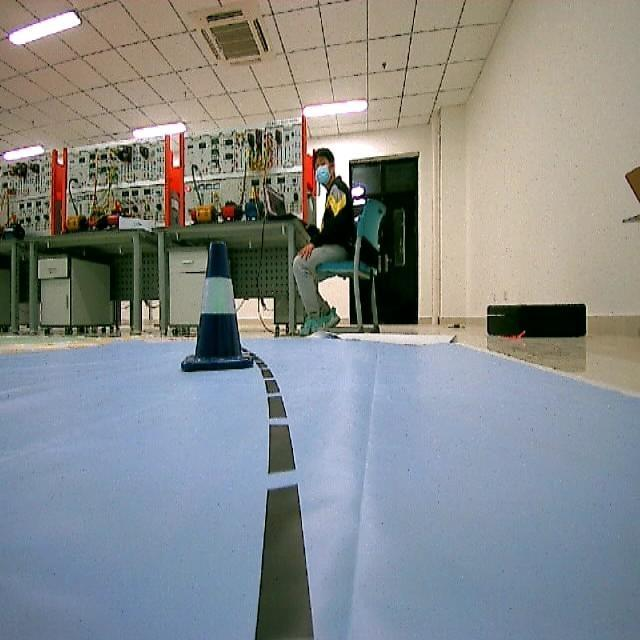obstacle: (180, 237, 253, 371)
